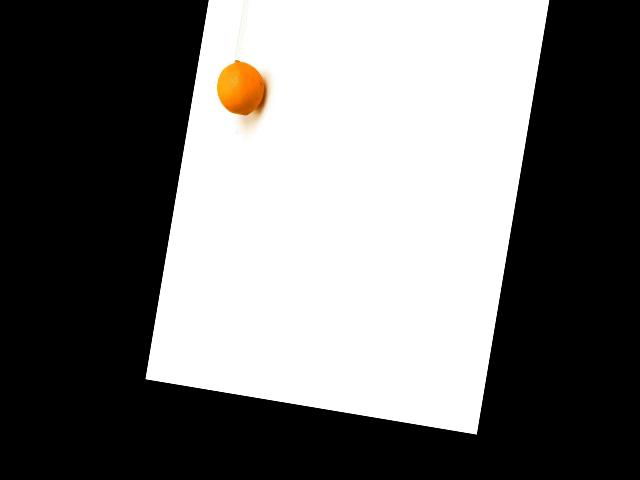lemon: (210, 57, 275, 125)
